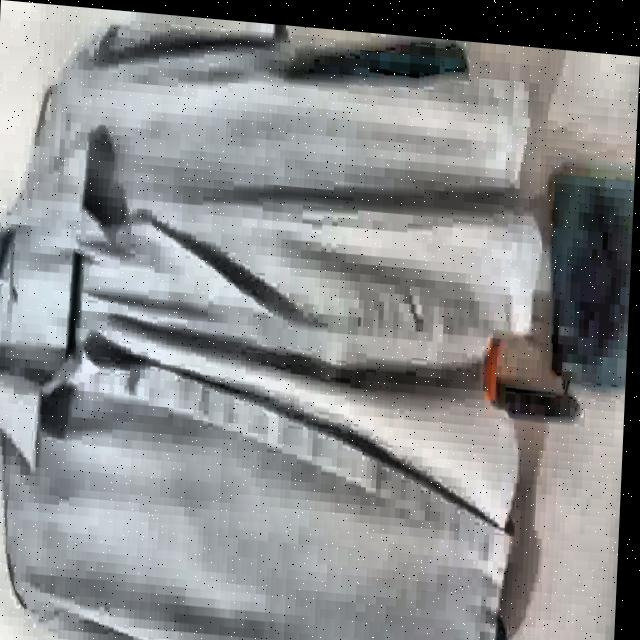clothes: (0, 2, 567, 640)
